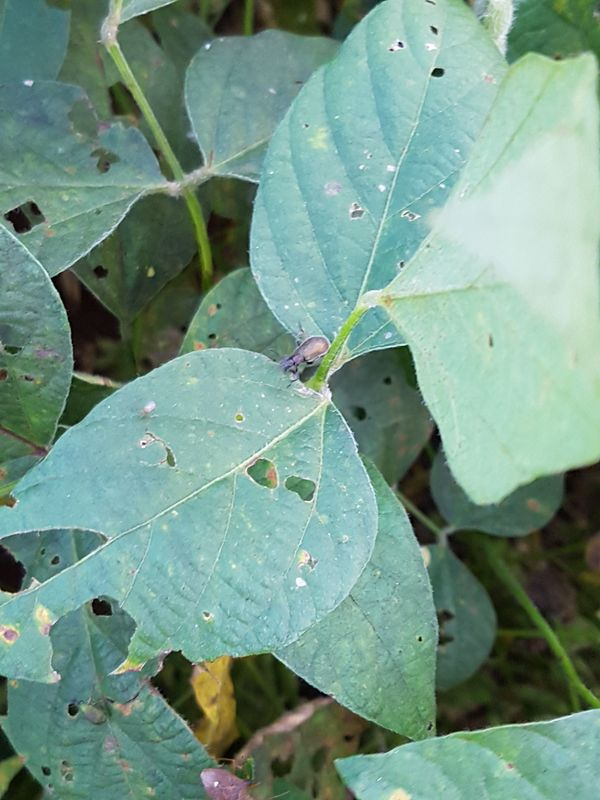Euschistus_heros_adulto: (191, 750, 264, 800)
Lagria_villosa: (269, 323, 339, 394)
